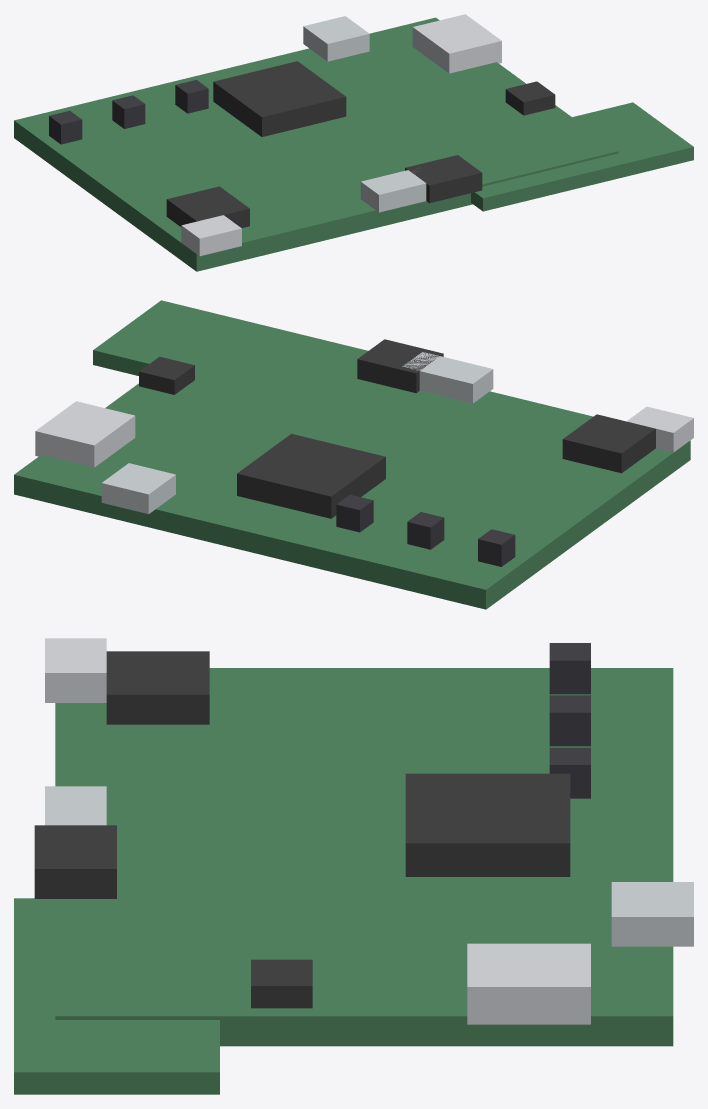
The model's file is mainboard.gltf.
3 views of the same model, one above another, from view 1: azimuth 30°, elevation 25°; view 2: azimuth 150°, elevation 25°; view 3: azimuth 270°, elevation 25° (orthographic). The views are drawn at different scales.
Visible parts, largest first — view 1: mainboard; view 2: mainboard; view 3: mainboard.
Boxes of the visible parts, x1,y1,x2,y2 form: mainboard: (14,14,693,271); mainboard: (14,300,693,609); mainboard: (14,638,693,1094).
Bounding box in the file's own units: 0.23 × 0.017 × 0.165.
